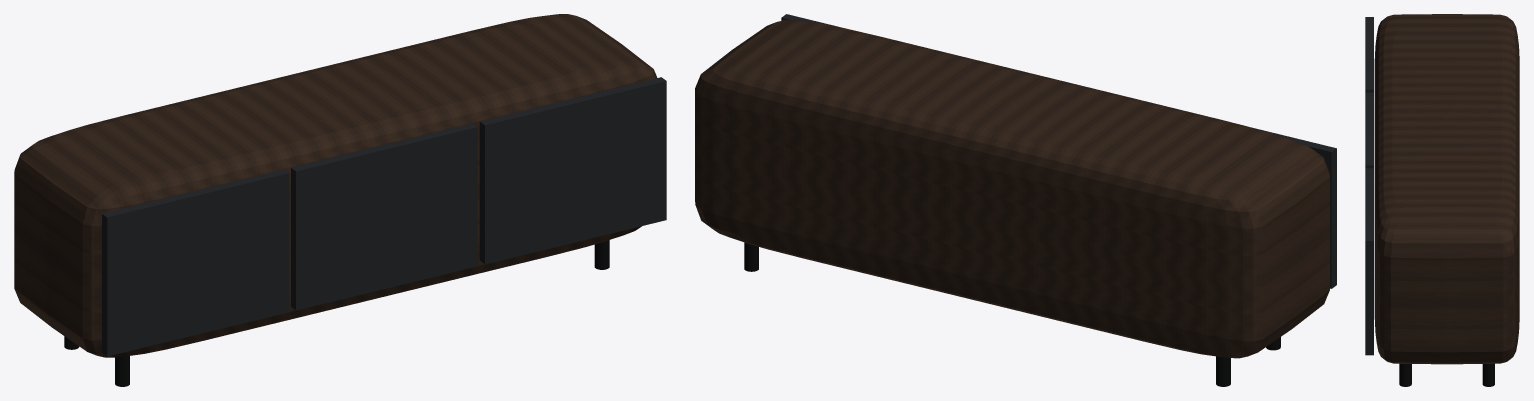
Rendered from tv-console-1600.glb.
3 renders of one model, left to right at view 1: azimuth 30°, elevation 25°; view 2: azimuth 150°, elevation 25°; view 3: azimuth 270°, elevation 25°, orthographic. The views are drawn at different scales.
Parts seen in each view (by area): view 1: body, front_3, front_2, front_1; view 2: body, front_1; view 3: body, front_3, front_2, front_1, leg_2_b, leg_2_a.
Part boxes in pixels (left/top/right/bottom): body: left=14, top=14, right=657, bottom=357; front_3: left=479, top=77, right=666, bottom=264; front_2: left=291, top=123, right=477, bottom=310; front_1: left=102, top=169, right=288, bottom=356; body: left=695, top=20, right=1329, bottom=358; front_1: left=1260, top=129, right=1336, bottom=288; body: left=1374, top=14, right=1519, bottom=364; front_3: left=1365, top=168, right=1373, bottom=355; front_2: left=1365, top=92, right=1373, bottom=168; front_1: left=1365, top=17, right=1373, bottom=92; leg_2_b: left=1399, top=363, right=1411, bottom=386; leg_2_a: left=1482, top=363, right=1494, bottom=386.
Size of the model in its own units: 1.6 by 0.55 by 0.45.
3 materials, 3 textured.
